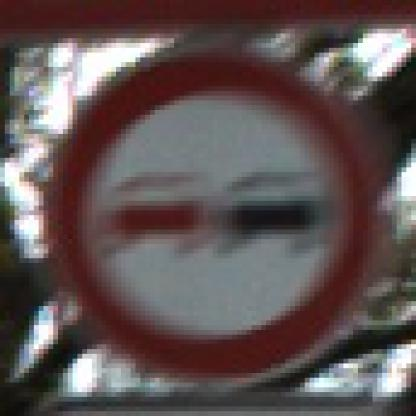No Overtaking: (40, 39, 383, 384)
